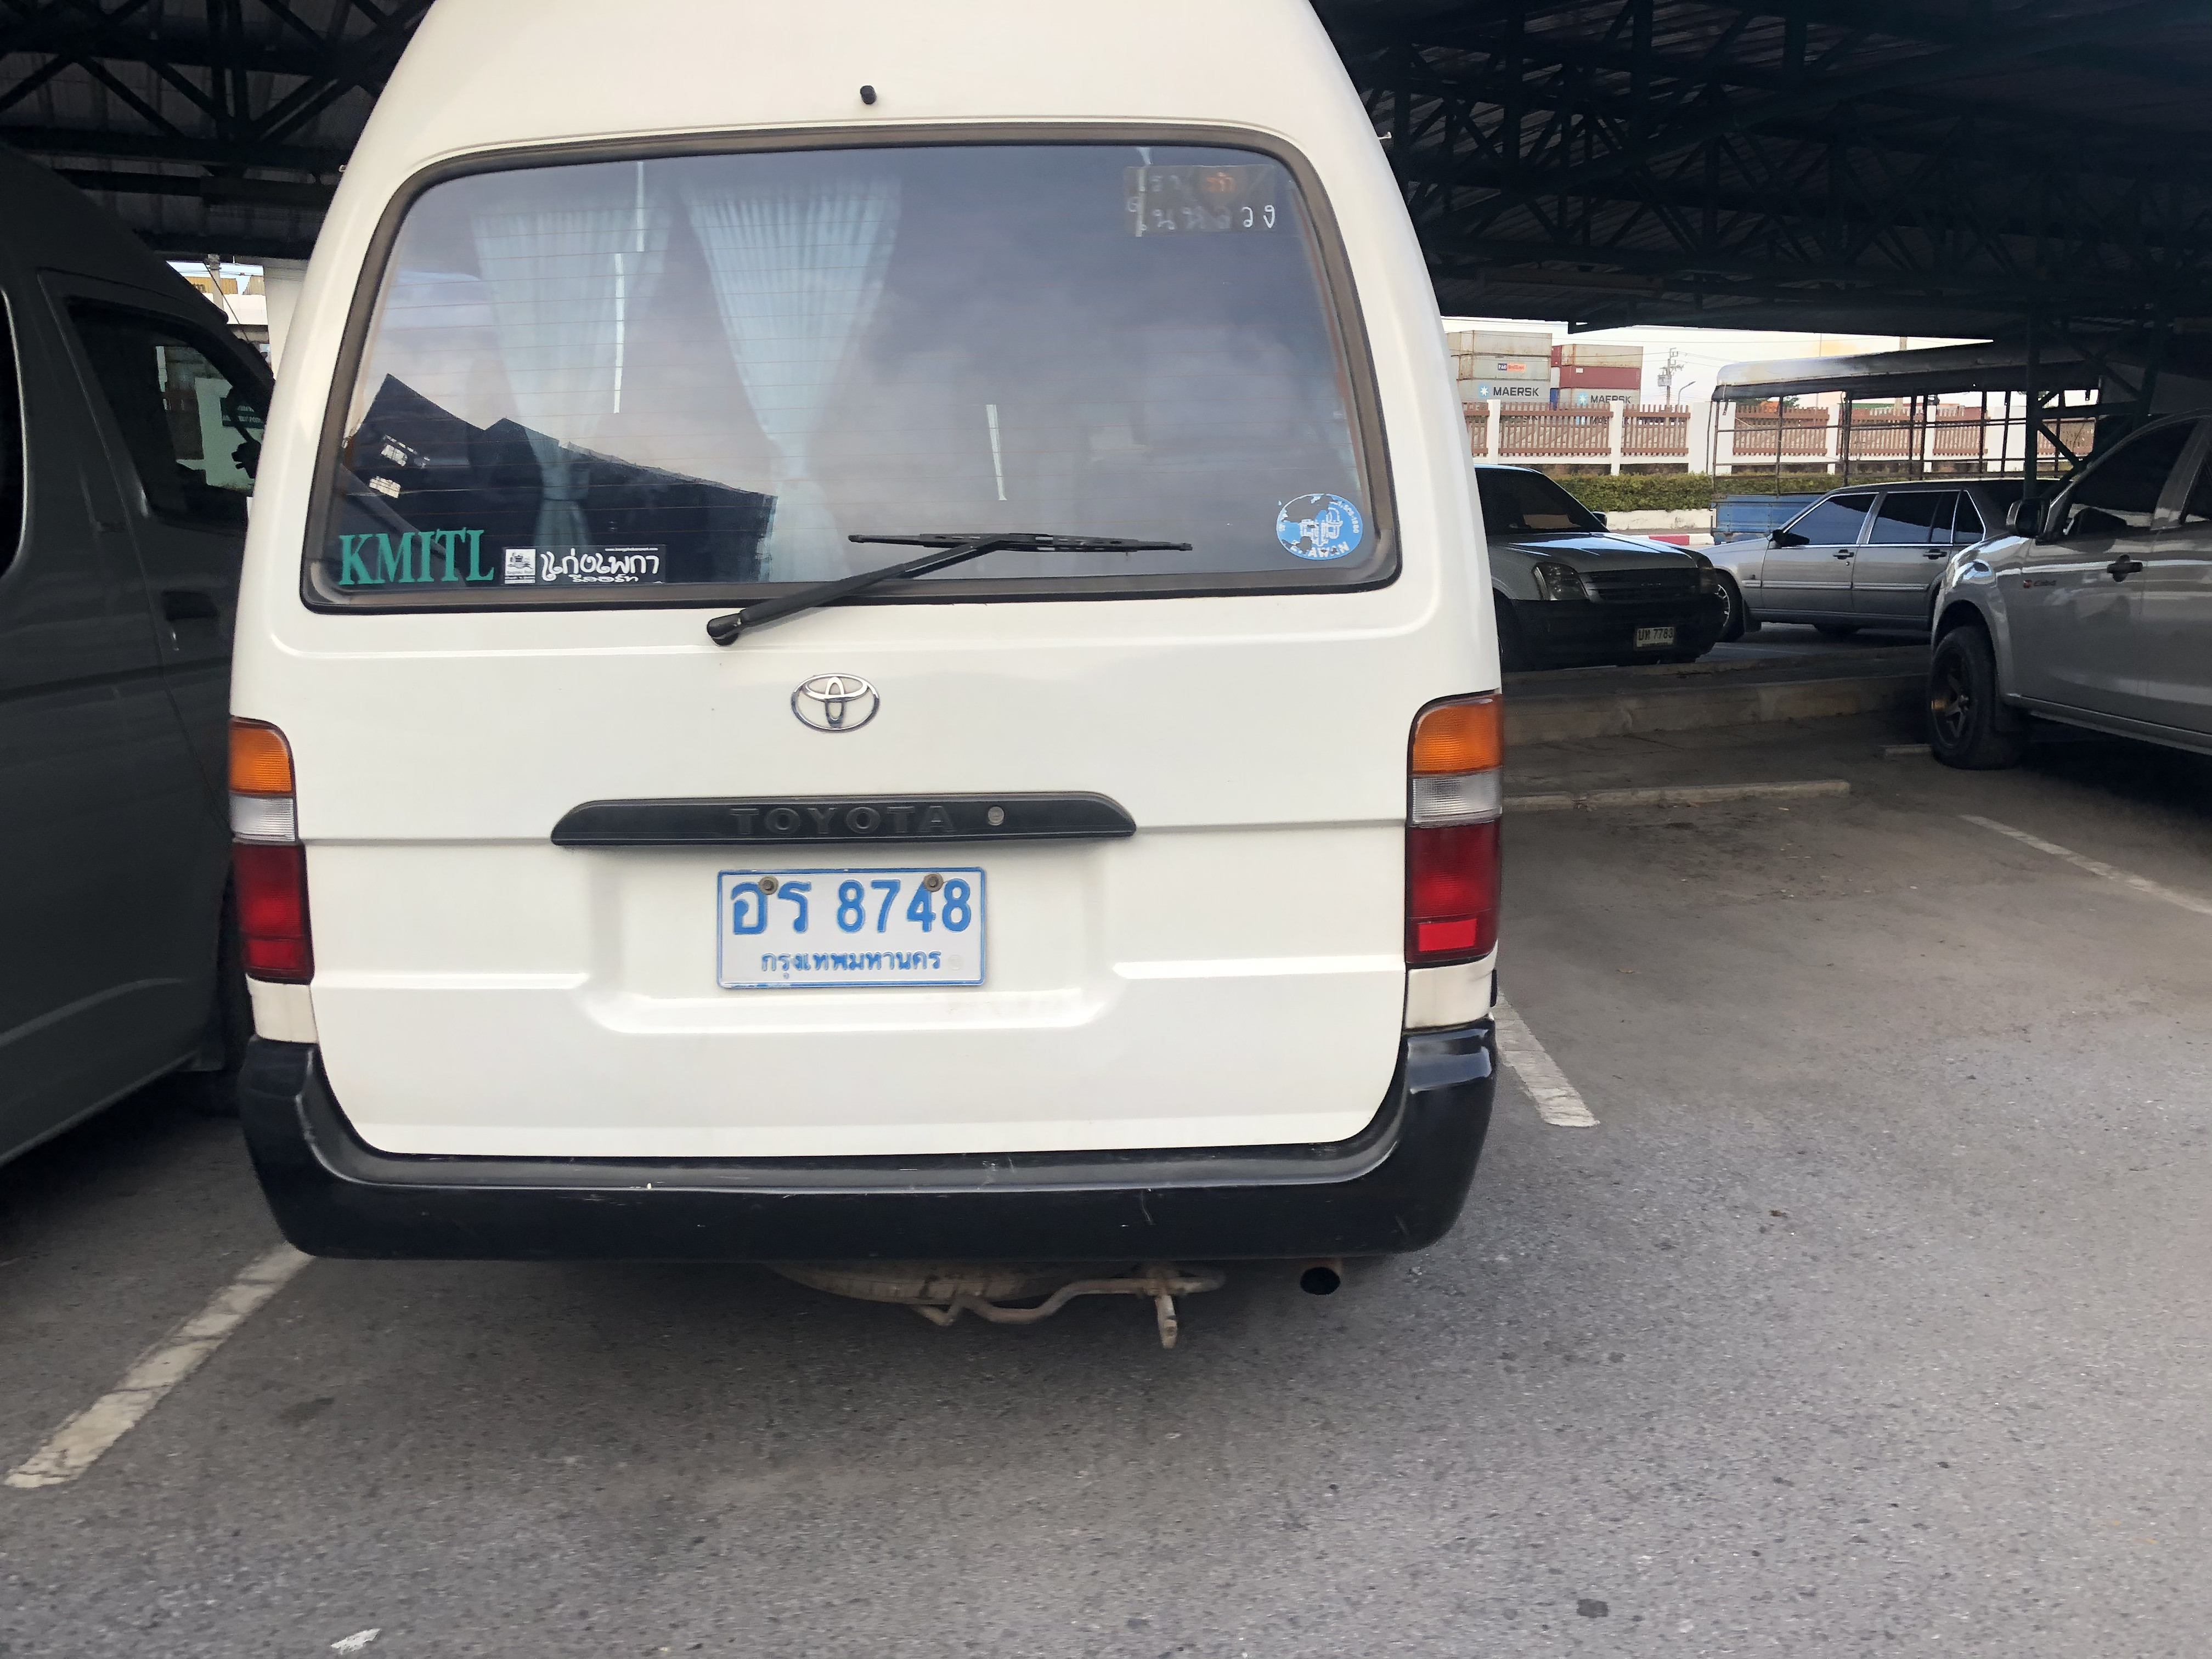in: (725, 875, 974, 978)
